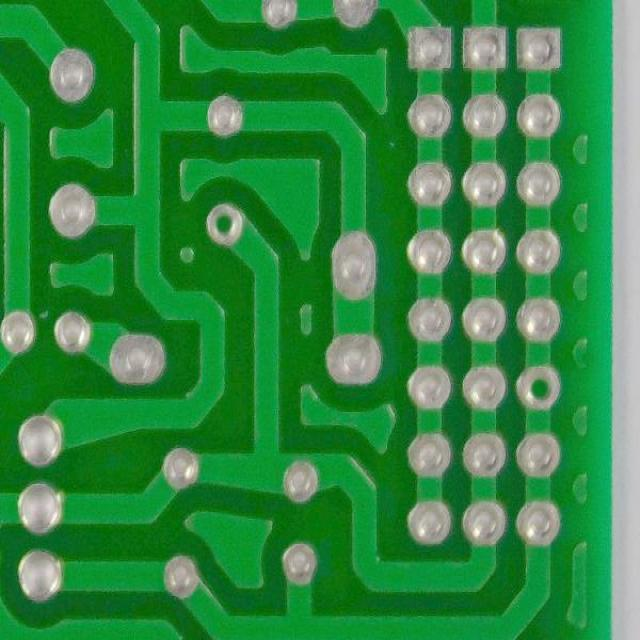missing hole: (511, 357, 566, 415), (203, 197, 250, 251)
